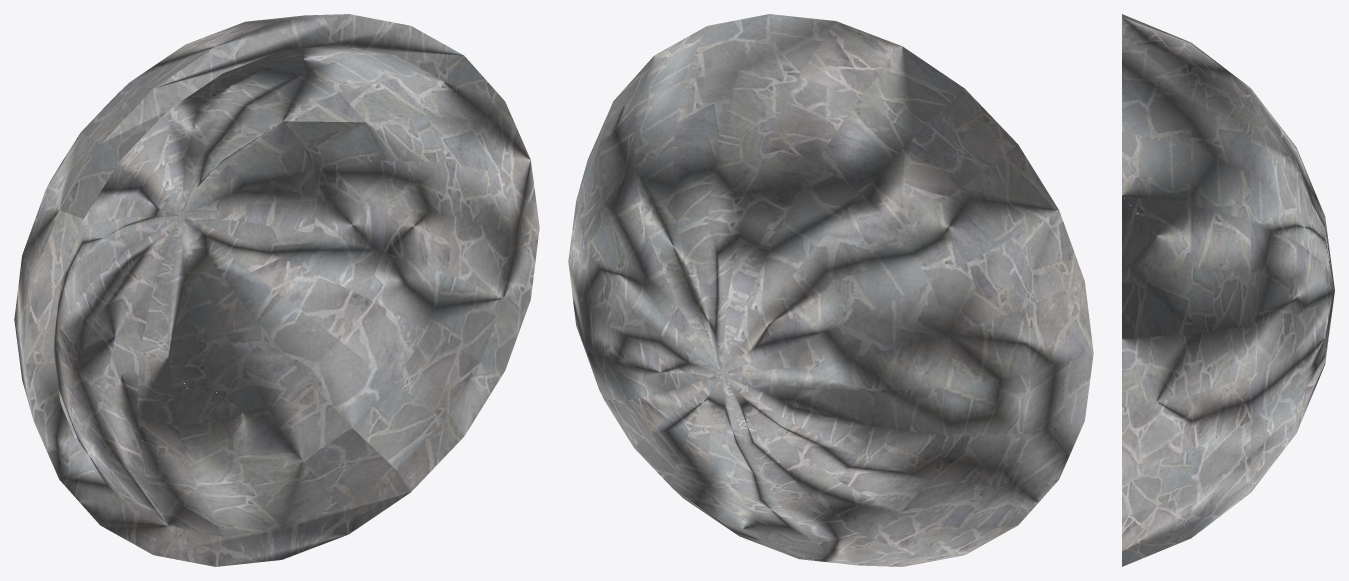
The model's file is model_align.obj.
3 views of the same model, side by side, from view 1: azimuth 30°, elevation 25°; view 2: azimuth 150°, elevation 25°; view 3: azimuth 270°, elevation 25° (orthographic). The views are drawn at different scales.
Bounding box in the file's own units: 0.1608 × 0.1608 × 0.0617.
Materials: 1 (1 with a texture image).
